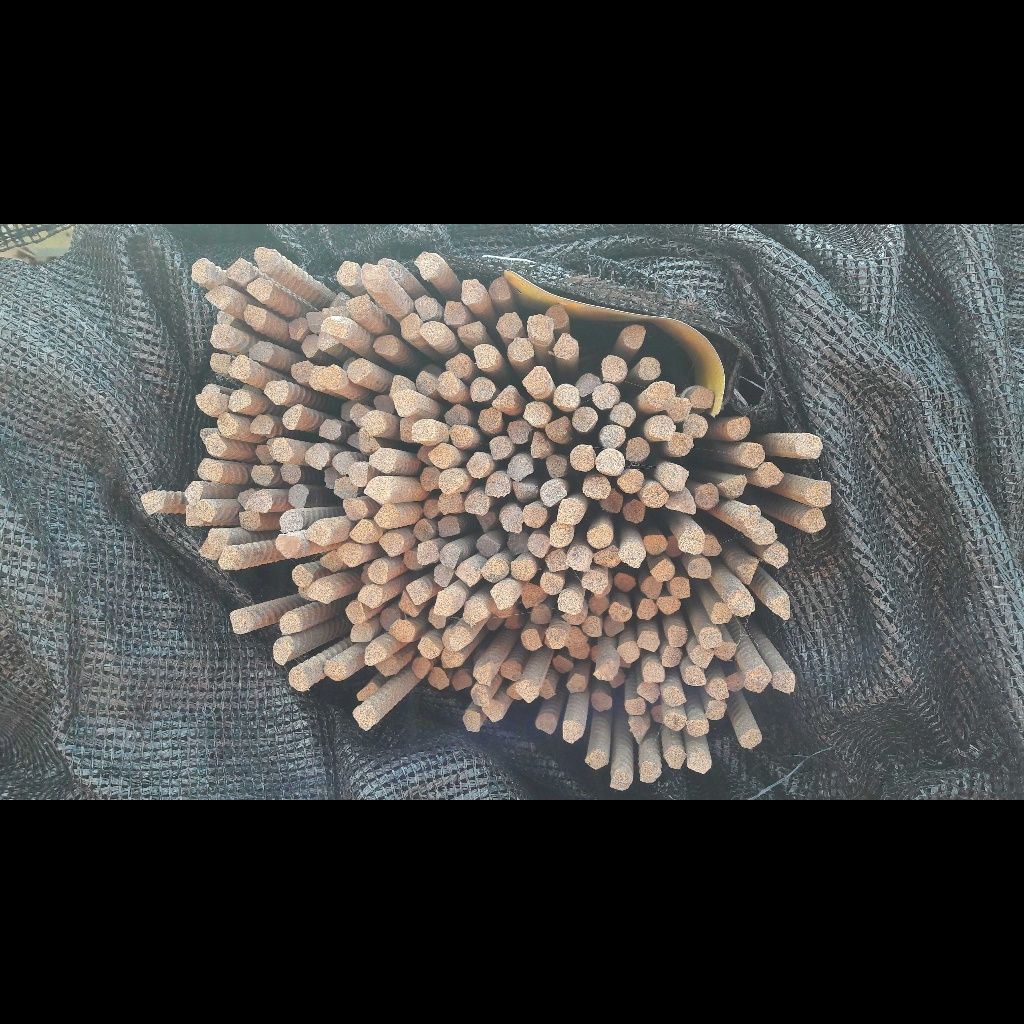dipstick: (642, 381, 675, 411), (521, 365, 551, 397), (792, 432, 824, 462), (657, 463, 690, 492), (525, 314, 555, 344), (746, 518, 778, 546), (796, 508, 829, 534), (666, 489, 697, 516), (359, 263, 387, 292), (621, 323, 649, 352), (609, 400, 637, 429), (497, 505, 525, 534), (596, 448, 625, 476), (489, 580, 518, 608), (755, 461, 784, 489), (746, 663, 773, 693), (254, 246, 280, 277), (204, 285, 236, 310), (599, 355, 627, 383), (738, 440, 766, 468), (728, 589, 756, 617), (226, 258, 255, 285), (506, 336, 535, 363), (645, 417, 675, 443), (680, 527, 706, 557), (267, 435, 294, 463), (412, 293, 440, 320), (274, 533, 301, 561), (305, 520, 332, 548), (463, 599, 490, 627), (582, 473, 610, 500), (547, 520, 574, 548), (808, 480, 835, 508), (570, 444, 596, 473), (764, 542, 790, 571), (193, 392, 225, 415), (552, 333, 579, 360), (593, 383, 620, 410), (694, 483, 721, 510), (539, 478, 567, 504), (642, 481, 668, 509), (555, 497, 581, 525), (245, 278, 274, 303), (436, 469, 465, 494), (718, 474, 748, 498), (228, 608, 254, 635), (473, 344, 500, 370), (638, 354, 664, 381), (600, 424, 627, 450), (196, 458, 224, 483), (415, 251, 440, 279), (389, 392, 417, 417), (367, 449, 395, 474), (364, 478, 392, 503), (335, 542, 363, 567), (307, 579, 335, 604), (444, 353, 472, 378), (449, 424, 474, 452), (209, 324, 238, 348), (560, 602, 590, 625), (459, 279, 485, 305), (552, 384, 578, 410), (575, 372, 601, 398), (625, 437, 651, 463), (356, 427, 381, 454), (302, 443, 327, 470), (496, 311, 521, 338), (469, 377, 496, 402), (689, 386, 716, 411), (618, 543, 645, 568), (555, 589, 582, 614), (767, 593, 792, 620), (771, 669, 796, 696), (626, 714, 649, 743), (273, 636, 294, 667), (345, 296, 371, 321), (335, 261, 360, 287), (349, 519, 375, 544), (378, 532, 403, 558), (477, 407, 503, 432), (523, 401, 549, 426), (464, 490, 489, 516), (598, 488, 623, 514), (566, 546, 591, 572), (242, 302, 266, 329), (219, 546, 243, 573), (360, 411, 387, 435), (545, 416, 569, 443), (667, 396, 691, 423), (682, 414, 709, 438), (687, 748, 711, 775), (725, 417, 752, 441), (321, 315, 349, 338), (547, 302, 570, 330), (666, 432, 694, 455), (586, 526, 614, 549), (592, 545, 620, 568), (411, 420, 440, 442), (264, 381, 289, 406), (485, 473, 510, 498), (508, 456, 533, 481), (514, 480, 539, 505), (208, 352, 232, 378), (342, 495, 366, 521), (357, 585, 383, 609), (372, 504, 398, 528), (466, 453, 490, 479), (482, 556, 508, 580), (456, 560, 480, 586), (405, 579, 429, 605), (521, 583, 547, 607), (686, 557, 712, 581), (661, 685, 687, 709), (229, 355, 252, 382), (138, 489, 161, 516), (443, 301, 470, 324), (437, 372, 460, 399), (618, 470, 645, 493), (737, 557, 758, 586), (227, 390, 252, 414), (506, 421, 531, 445), (544, 548, 568, 573), (665, 622, 689, 647), (660, 643, 684, 668), (584, 749, 608, 774), (248, 414, 274, 437), (420, 321, 446, 344), (277, 612, 303, 635), (458, 321, 484, 344), (443, 403, 469, 426), (438, 492, 464, 515), (216, 411, 238, 438), (529, 531, 551, 558), (289, 665, 310, 693), (249, 340, 273, 364), (493, 386, 517, 410), (621, 499, 645, 523), (510, 558, 534, 582), (663, 746, 687, 770), (323, 364, 346, 389), (346, 462, 369, 487), (322, 658, 345, 683), (489, 276, 512, 301), (429, 444, 452, 469), (573, 407, 598, 430), (489, 437, 514, 460), (434, 592, 457, 617), (538, 572, 563, 595), (442, 628, 467, 651), (561, 719, 584, 744), (641, 661, 666, 684), (636, 680, 661, 703), (609, 770, 634, 793), (691, 643, 714, 668), (190, 258, 212, 284), (278, 509, 304, 531), (351, 705, 373, 731), (411, 518, 437, 540), (437, 516, 463, 538), (580, 570, 606, 592), (389, 621, 415, 643), (280, 404, 301, 431), (414, 371, 438, 394), (344, 600, 367, 624), (377, 607, 400, 631), (419, 467, 442, 491), (507, 529, 530, 553), (644, 533, 667, 557), (638, 760, 661, 784), (286, 483, 308, 508), (373, 656, 398, 678), (427, 667, 449, 692), (636, 598, 658, 623), (664, 709, 686, 734), (289, 565, 315, 586), (204, 433, 227, 456), (250, 464, 273, 487), (317, 418, 340, 441), (416, 542, 439, 565), (668, 576, 691, 599), (700, 535, 723, 558), (706, 677, 729, 700), (248, 491, 272, 513), (379, 256, 401, 280), (401, 549, 423, 573), (522, 503, 546, 525), (475, 533, 499, 555), (609, 600, 633, 622), (416, 636, 440, 658), (683, 667, 707, 689), (399, 312, 420, 337), (348, 622, 373, 643), (369, 560, 390, 585), (651, 558, 676, 579), (739, 729, 764, 750), (388, 373, 415, 392), (286, 316, 308, 339), (346, 358, 368, 381), (362, 643, 384, 666), (357, 679, 379, 702), (617, 640, 639, 663), (640, 576, 663, 598), (687, 717, 710, 739), (711, 601, 733, 624), (699, 625, 721, 648), (371, 334, 395, 355), (320, 551, 344, 572), (531, 430, 549, 458), (529, 604, 553, 625), (594, 659, 618, 680), (398, 417, 418, 442), (439, 544, 458, 570), (334, 477, 356, 499), (544, 455, 566, 477), (450, 670, 472, 692), (482, 701, 504, 723), (207, 527, 228, 550), (236, 509, 259, 530), (279, 463, 302, 484), (291, 360, 312, 383), (434, 564, 455, 587), (520, 630, 543, 651), (545, 628, 568, 649), (472, 662, 493, 685), (534, 713, 555, 736), (638, 630, 659, 653), (371, 392, 395, 412), (517, 680, 537, 704), (624, 695, 648, 715), (299, 334, 318, 359), (331, 451, 352, 473), (614, 572, 636, 593), (587, 594, 609, 615), (604, 615, 625, 637), (463, 710, 484, 732), (714, 641, 736, 662), (199, 539, 219, 562), (234, 485, 254, 508), (255, 442, 275, 465), (499, 661, 522, 681), (470, 685, 490, 708), (592, 691, 612, 714), (705, 698, 725, 721), (399, 591, 417, 616), (489, 600, 514, 618), (308, 366, 325, 392), (322, 468, 342, 490), (582, 616, 602, 638), (565, 626, 587, 646), (212, 309, 235, 328), (195, 499, 214, 522), (349, 402, 368, 425), (658, 596, 681, 615), (727, 670, 746, 693), (439, 651, 463, 669), (184, 502, 201, 527), (410, 658, 430, 679), (552, 655, 574, 674), (305, 311, 323, 334), (317, 332, 337, 352), (427, 608, 447, 628), (566, 674, 586, 694), (474, 511, 495, 530), (184, 481, 202, 503), (666, 535, 684, 557), (297, 583, 315, 604), (418, 362, 440, 379), (567, 644, 590, 660), (337, 400, 355, 420), (416, 444, 434, 464), (538, 680, 556, 700), (422, 498, 439, 519), (609, 669, 626, 689), (331, 291, 349, 309), (504, 613, 521, 632), (347, 431, 362, 452), (358, 564, 373, 585), (649, 704, 664, 725), (200, 383, 222, 397), (485, 616, 505, 631), (505, 683, 521, 701), (340, 355, 355, 373), (199, 426, 211, 442)
